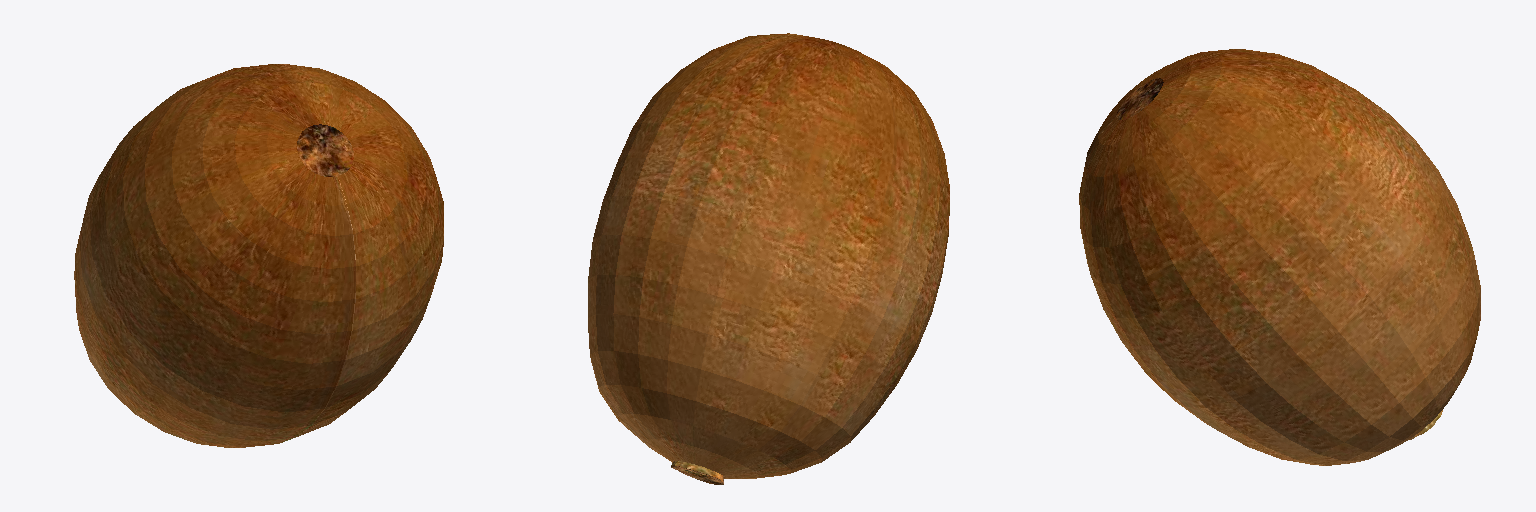
3 views of the same model, side by side, from view 1: azimuth 30°, elevation 25°; view 2: azimuth 150°, elevation 25°; view 3: azimuth 270°, elevation 25° (orthographic).
Visible parts, largest first — view 1: Kiwi02, Kiwi_Bottom02; view 2: Kiwi02; view 3: Kiwi02, Kiwi_Bottom02.
Part boxes in pixels (left/top/right/bottom): Kiwi02: left=74, top=64, right=443, bottom=447; Kiwi_Bottom02: left=297, top=124, right=353, bottom=176; Kiwi02: left=588, top=33, right=949, bottom=478; Kiwi02: left=1079, top=49, right=1480, bottom=465; Kiwi_Bottom02: left=1116, top=78, right=1163, bottom=119.
Size of the model in its own units: 0.8738 by 1.06 by 1.01.
4 materials, 3 textured.